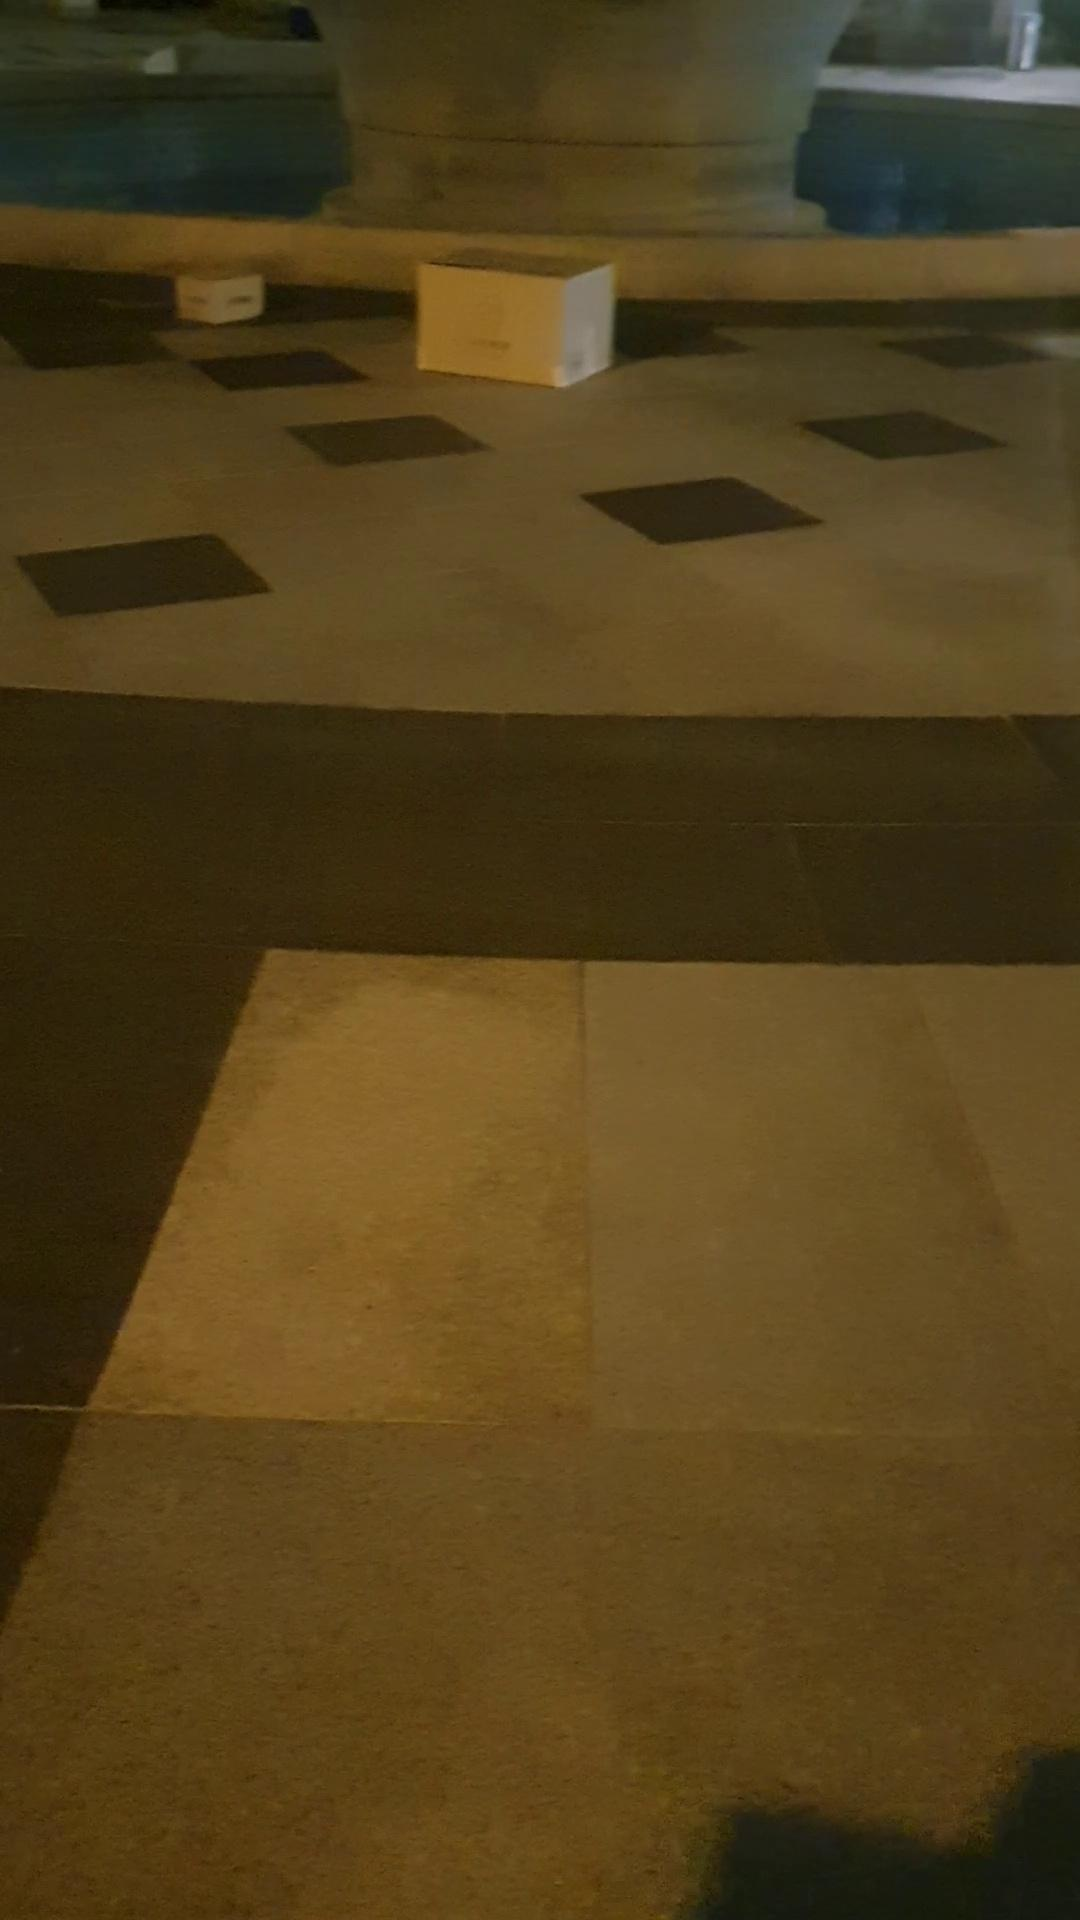Box: (407, 229, 620, 404), (161, 251, 280, 332)
